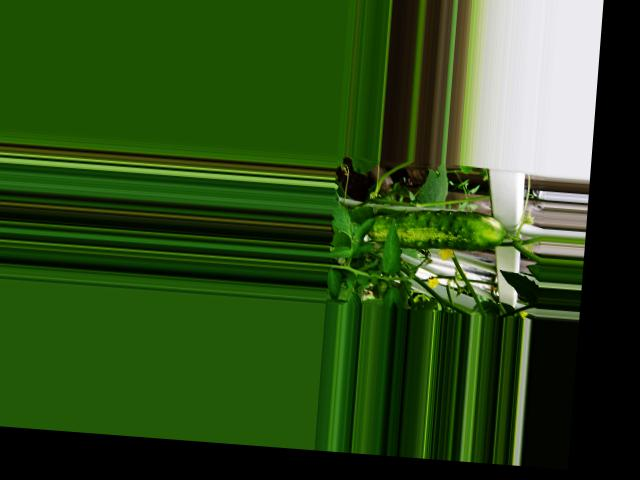cucumber: (368, 204, 507, 253)
